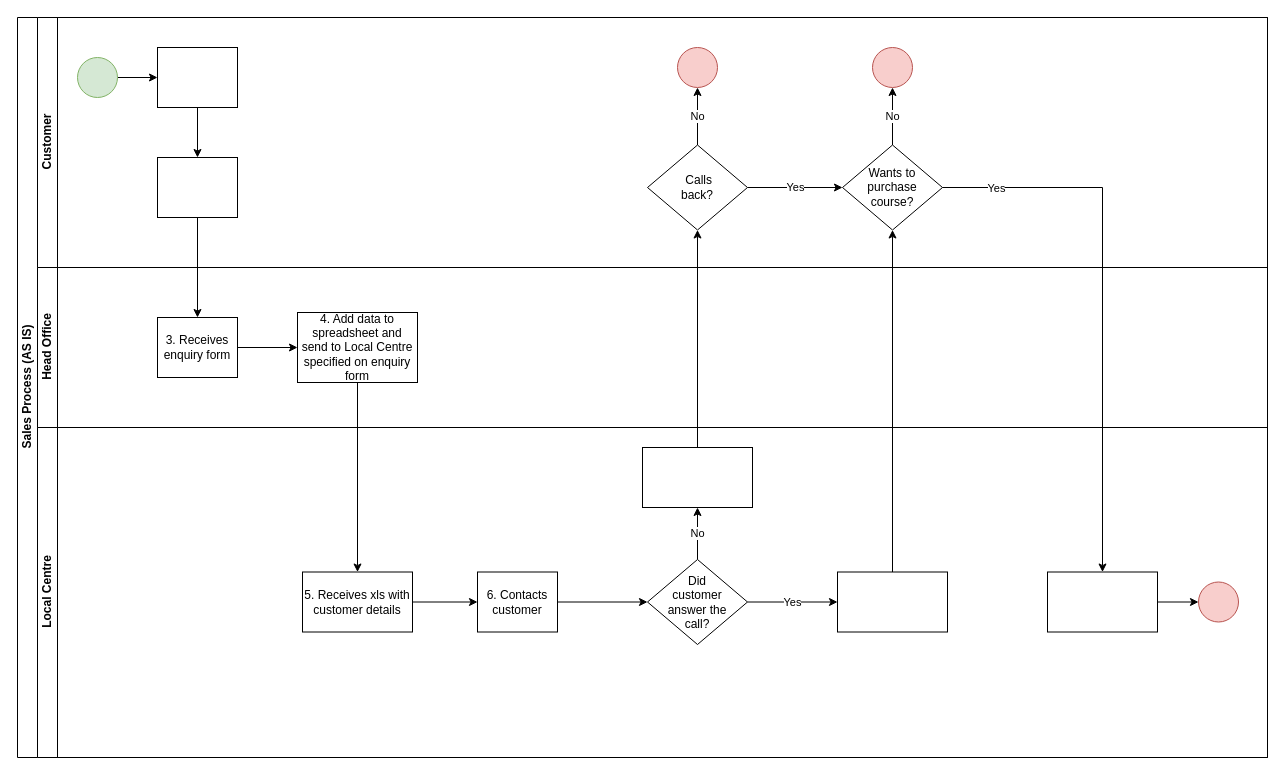
This 1285x775 diagram has some shape labels left out. The shapes that lost their labels are listed below. From the top down, each one's centre as x and y in pixels, then its label:
point 197,77: 1. Completes online search for course
point 197,187: 2. Completes enquiry form
point 697,477: 7a. Send course outline via Outlook and ask customer to callback
point 892,601: 7b. Send course outline via Outlook
point 1102,601: 8. Takes payment and ends call
